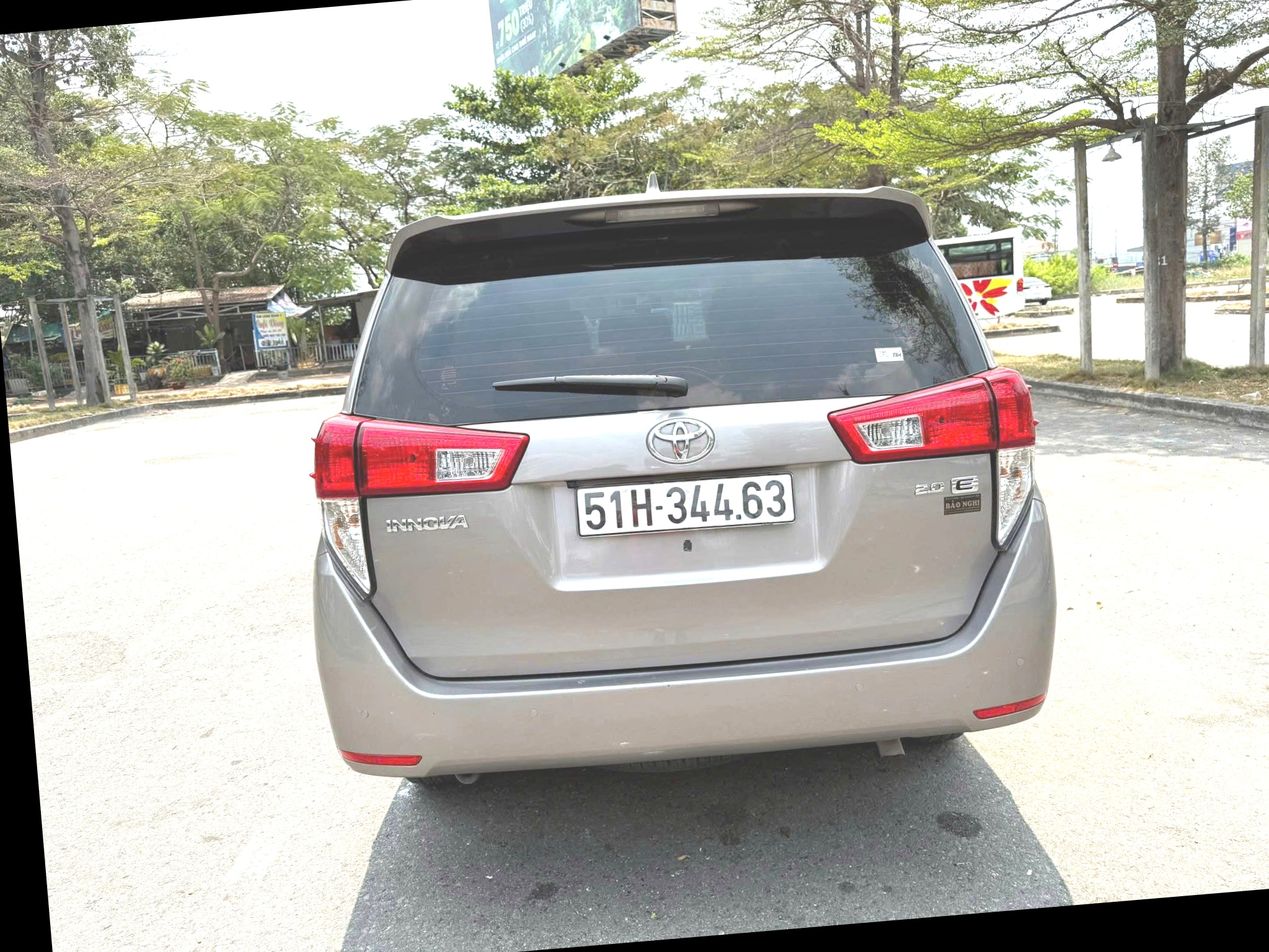Bien-so: (572, 462, 802, 538)
